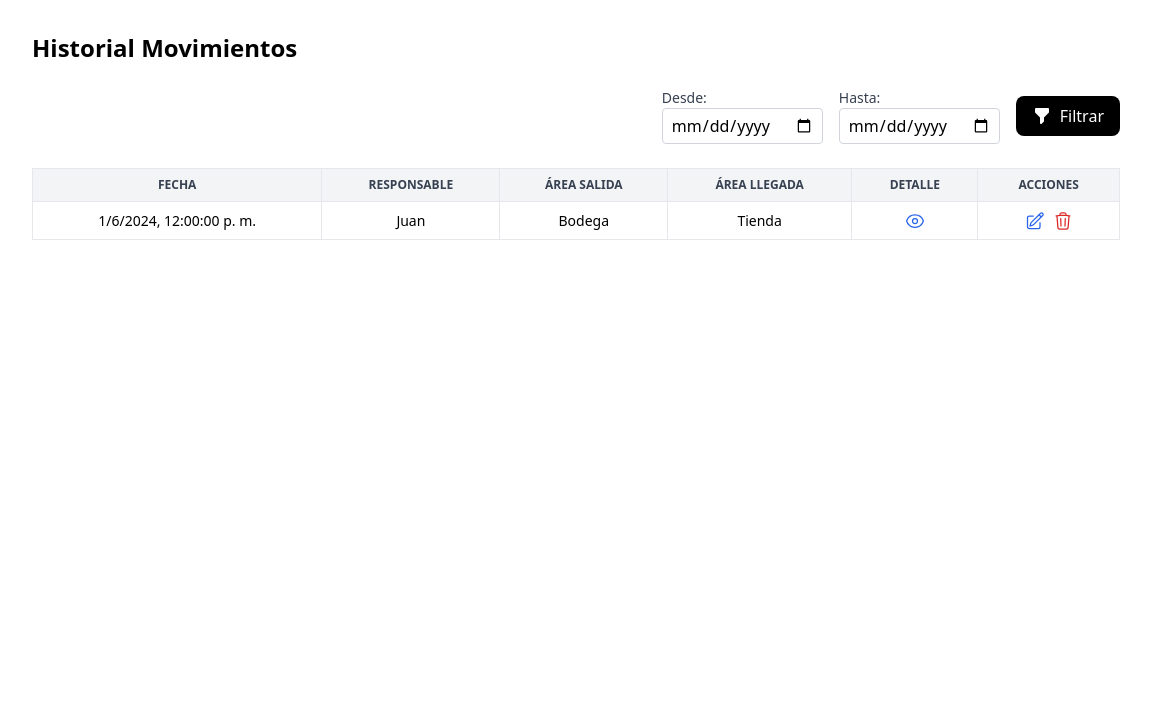
Test: HistorialMovimientos › abre y cierra el modal de detalle
The width and height of the screenshot is (1152, 720).
Expected: the text "Juan" is shown, [322,202,500,240]
Click the button titled "Ver detalle" at point(915, 221), box [905,210,925,231]
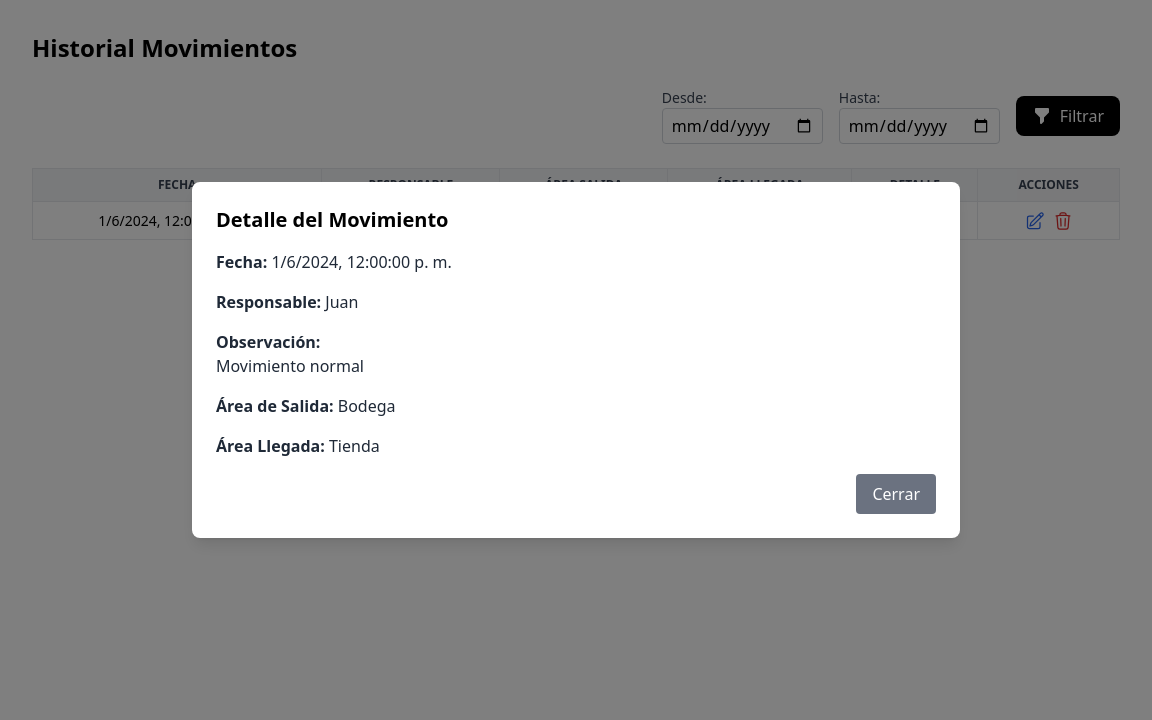
Now the heading "Detalle del Movimiento" is shown, box [216,206,448,233]
Now the text "Responsable:" is shown, box [216,291,321,313]
Click the button "Cerrar" at point(896, 494), box [856,474,936,514]
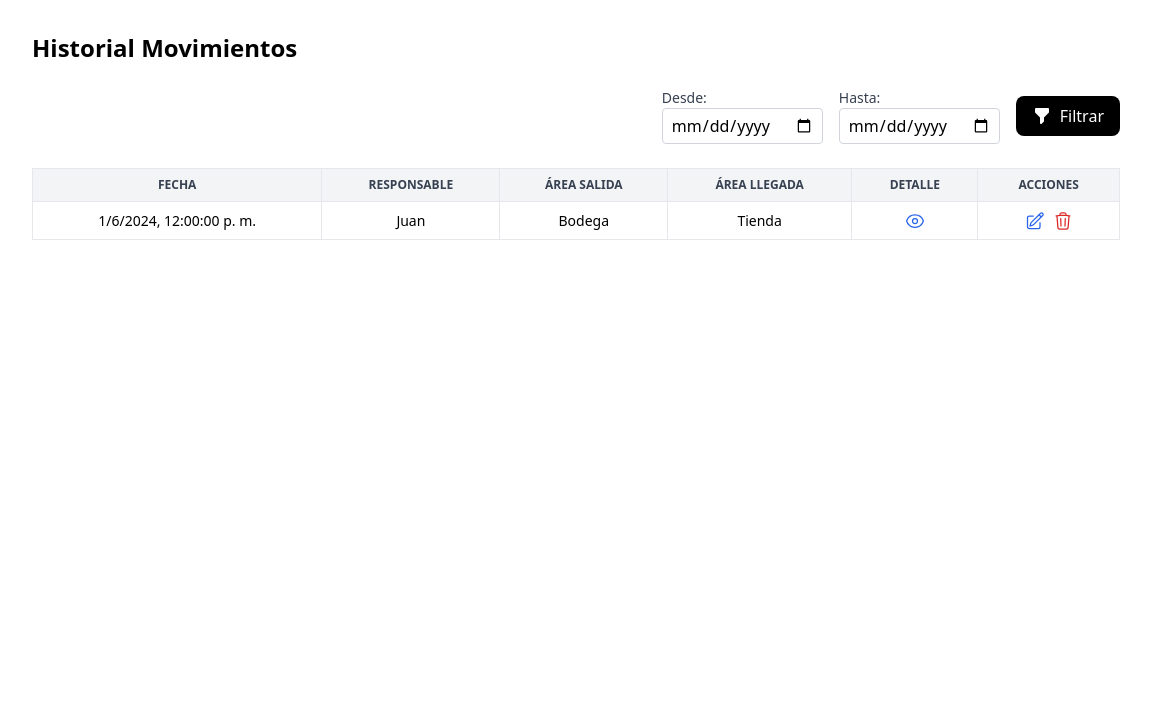
Now the heading "Detalle del Movimiento" is gone
